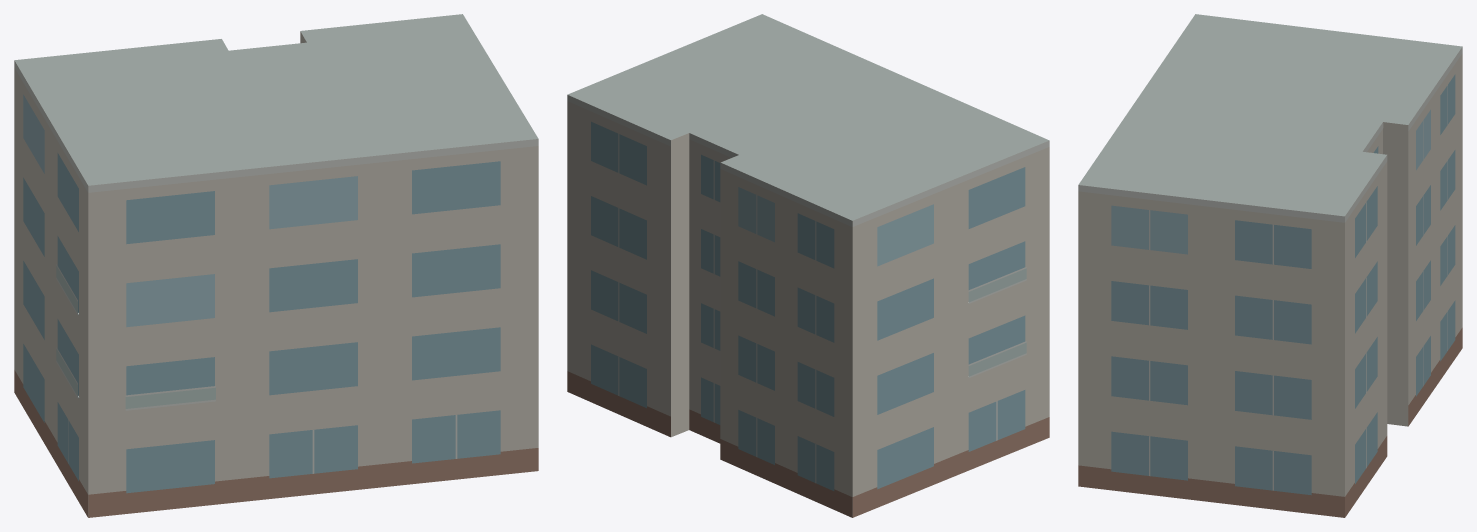
Rendered from survey-upis-32873695.glb.
3 renders of one model, left to right at view 1: azimuth 30°, elevation 25°; view 2: azimuth 150°, elevation 25°; view 3: azimuth 270°, elevation 25°, orthographic. The views are drawn at different scales.
Visible parts, largest first — view 1: survey-upis-32873695.tmp; view 2: survey-upis-32873695.tmp; view 3: survey-upis-32873695.tmp.
Boxes of the visible parts, left/top/right/bottom form: survey-upis-32873695.tmp: left=14, top=14, right=538, bottom=517; survey-upis-32873695.tmp: left=567, top=14, right=1049, bottom=517; survey-upis-32873695.tmp: left=1078, top=14, right=1462, bottom=517.
Size of the model in its own units: 16.57 by 11.5 by 13.3.
